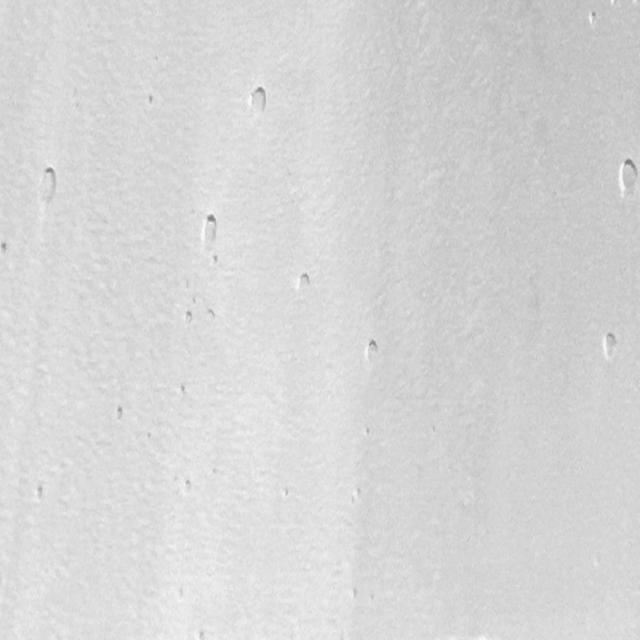pin holes: (198, 210, 223, 252), (36, 165, 61, 205), (614, 154, 636, 198), (598, 328, 622, 362), (245, 83, 269, 117), (360, 337, 383, 366), (294, 270, 314, 296), (28, 482, 48, 508), (346, 486, 365, 508), (174, 381, 190, 404), (203, 305, 220, 324), (110, 404, 126, 424), (181, 309, 196, 328), (180, 476, 194, 496), (584, 9, 598, 29), (348, 584, 361, 602), (145, 93, 157, 110), (280, 485, 292, 500), (192, 627, 206, 639), (364, 590, 376, 604), (1, 240, 10, 258), (209, 468, 221, 481), (363, 426, 371, 439), (212, 253, 220, 266)
